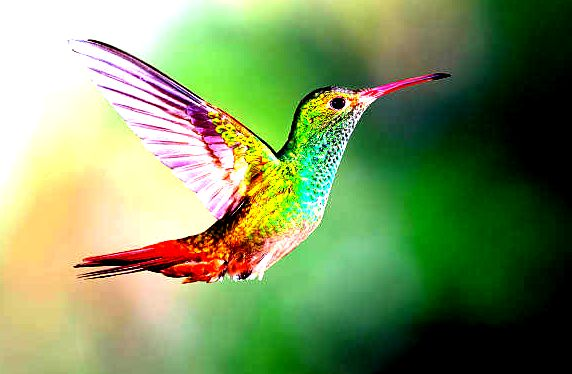Bird: (59, 32, 454, 293)
